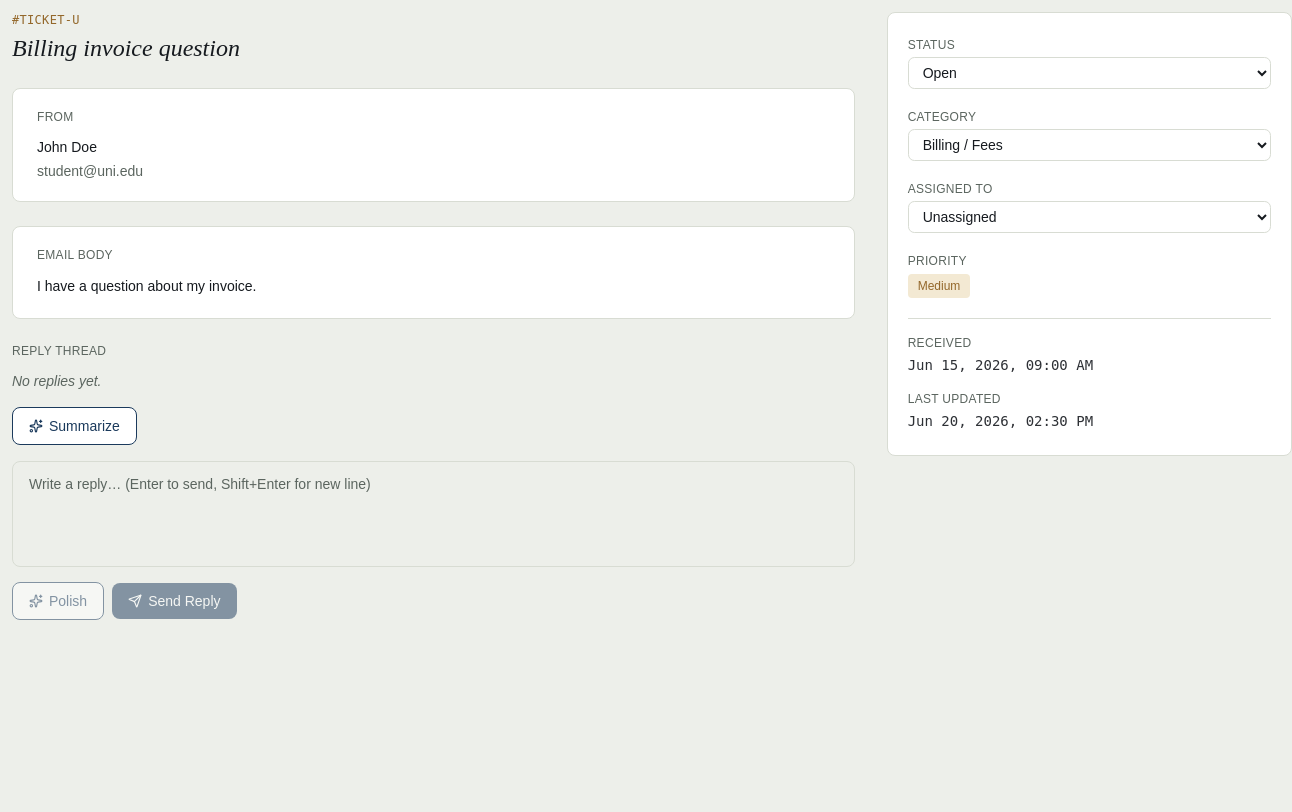
Test: TicketDetail › reply form › shows a generic error message when the POST fails without a detail field
This screenshot has width=1292, height=812.
Expected: the heading "Billing invoice question" is shown, x1=12 y1=35 x2=240 y2=61
In the text box with placeholder "Write a reply… (Enter to send, Shift+Enter for new line)": (433, 514) x1=12 y1=461 x2=855 y2=567, type "."
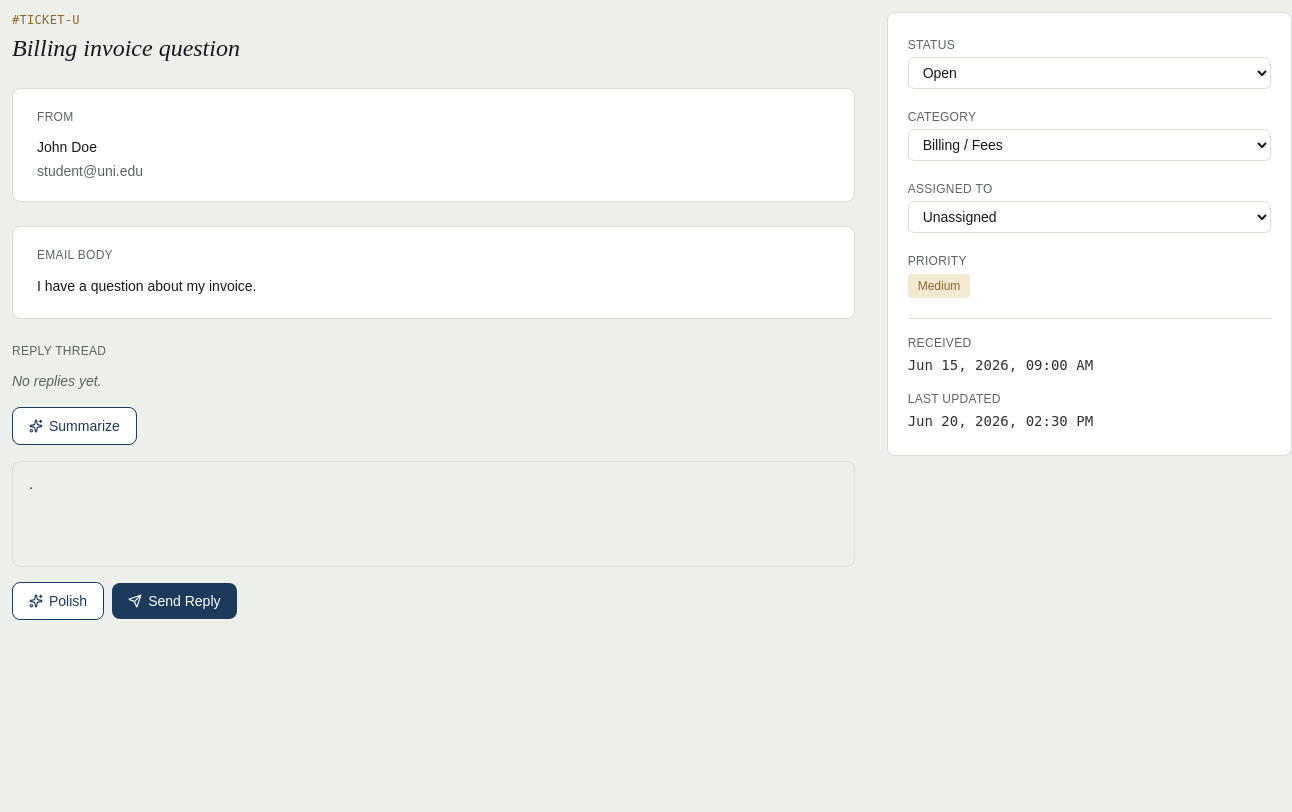
Click the button "Send Reply": (174, 601) x1=112 y1=583 x2=236 y2=619
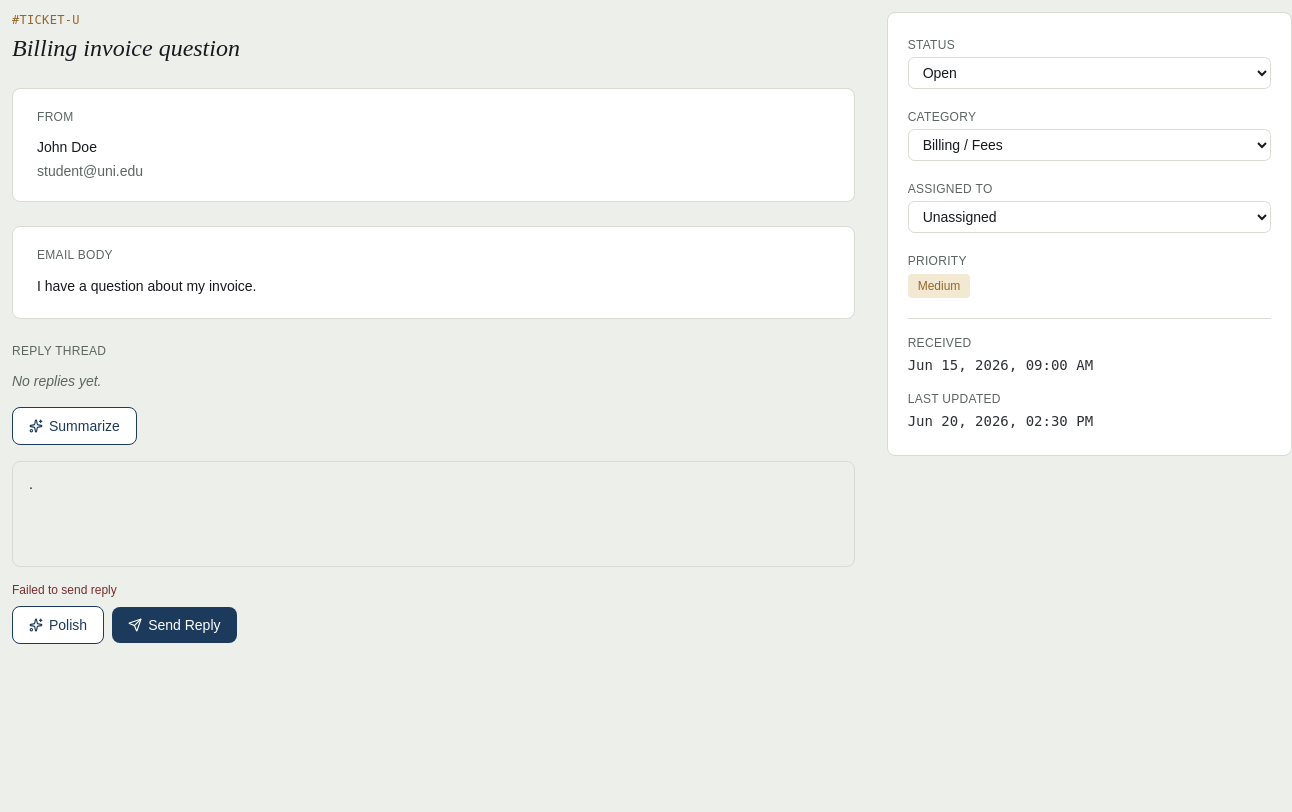
Expected: the text "Failed to send reply" is shown, x1=12 y1=583 x2=117 y2=597
